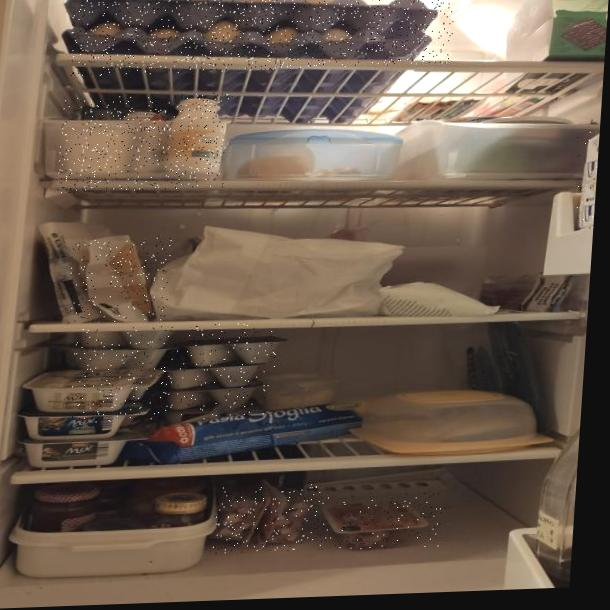bacon: (212, 484, 322, 554), (314, 492, 444, 551)
butter: (571, 124, 600, 235)
cheese: (67, 236, 172, 324)
eggs: (69, 0, 456, 77)
yoghurt: (69, 322, 278, 424), (57, 92, 229, 194), (16, 374, 156, 469)
